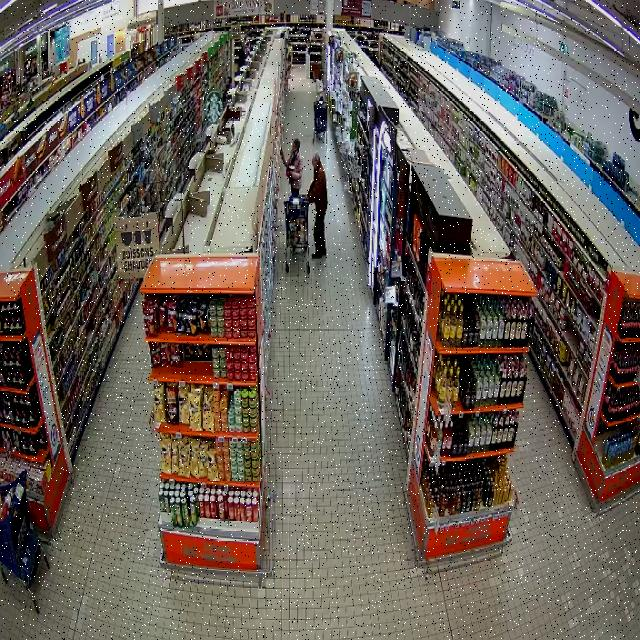hands: (280, 147, 284, 156)
person: (307, 153, 326, 258), (280, 138, 302, 194)
